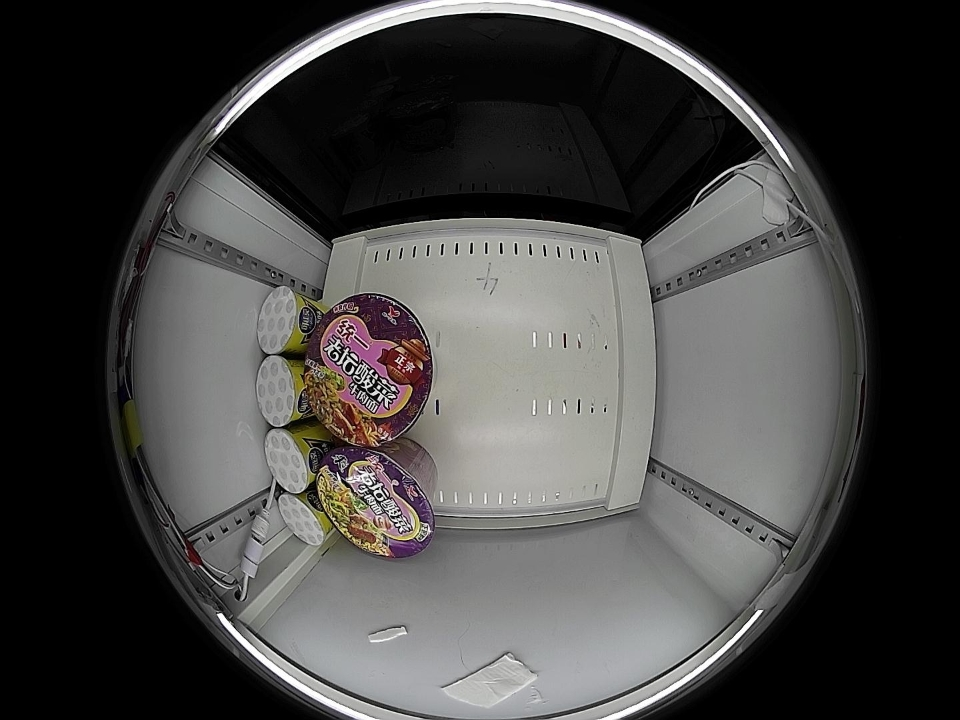shupian: (249, 355, 313, 428), (254, 429, 317, 493), (275, 491, 340, 552), (256, 276, 306, 355)
suancai: (297, 297, 437, 443), (314, 447, 446, 563)
